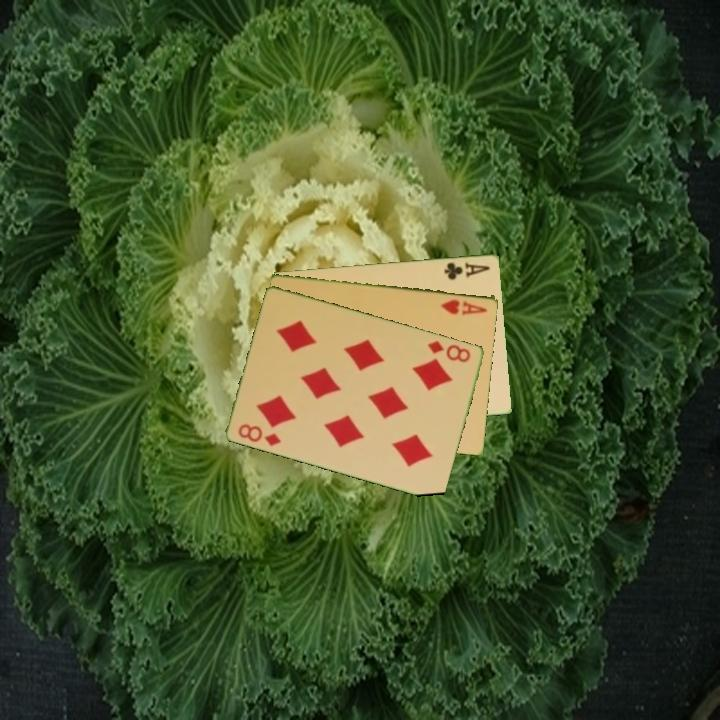8d: (235, 420, 284, 449), (424, 337, 474, 365)
Ac: (441, 259, 493, 282)
Ah: (437, 296, 490, 318)
